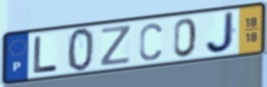0: (66, 27, 96, 74), (173, 17, 199, 59)
C: (138, 21, 164, 63)
J: (204, 10, 238, 56)
L: (32, 35, 60, 76)
Z: (99, 24, 133, 68)
